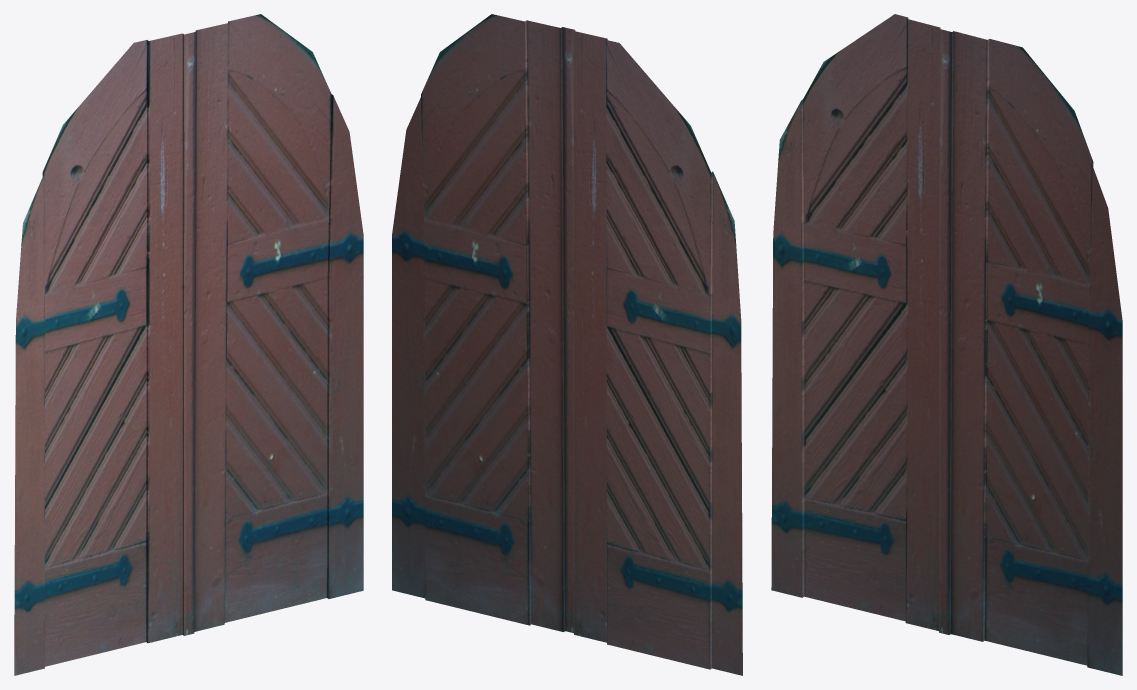
The model's file is gate-small-2.fbx.
3 views of the same model, side by side, from view 1: azimuth 30°, elevation 25°; view 2: azimuth 150°, elevation 25°; view 3: azimuth 330°, elevation 25° (orthographic).
Parts seen in each view (by area): view 1: gate-small-2; view 2: gate-small-2; view 3: gate-small-2.
Part boxes in pixels (bbox=[...]): gate-small-2: bbox=[14, 14, 363, 675]; gate-small-2: bbox=[392, 14, 742, 675]; gate-small-2: bbox=[771, 14, 1122, 675].
Bounding box in the file's own units: 157 × 259 × 2.59.
